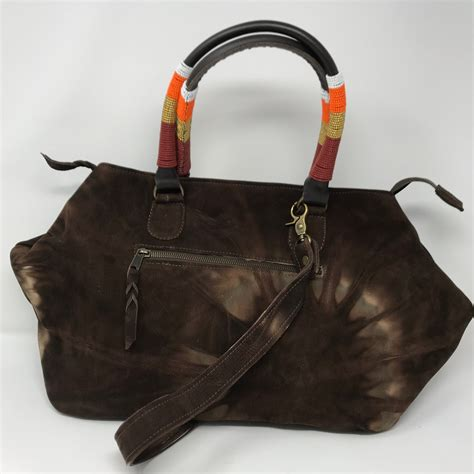gamuza: (11, 162, 474, 435)
